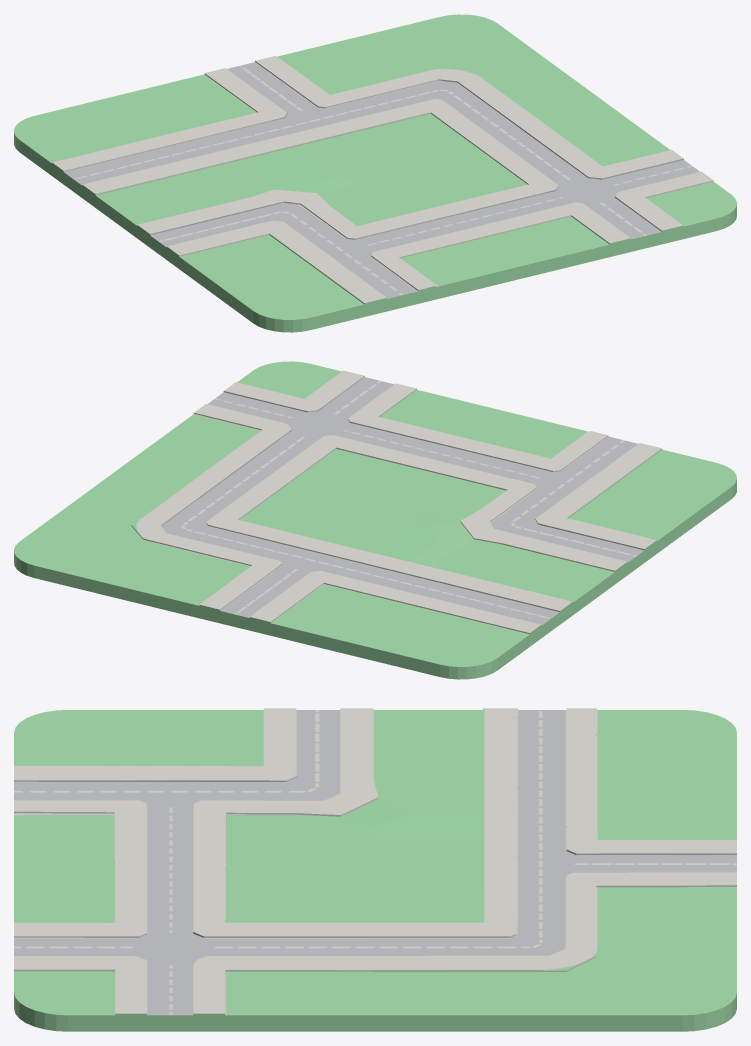
The model's file is GroundModel.fbx.
The picture shows the model from 3 angles, top to bottom: view 1: azimuth 30°, elevation 25°; view 2: azimuth 150°, elevation 25°; view 3: azimuth 270°, elevation 25°; orthographic projection. The views are drawn at different scales.
Parts seen in each view (by area): view 1: Cube; view 2: Cube; view 3: Cube.
Part boxes in pixels (x1=…): Cube: x1=14, y1=14, x2=736, y2=332; Cube: x1=14, y1=361, x2=736, y2=679; Cube: x1=14, y1=708, x2=736, y2=1031.
Size of the model in its own units: 3000 by 82.68 by 3000.
